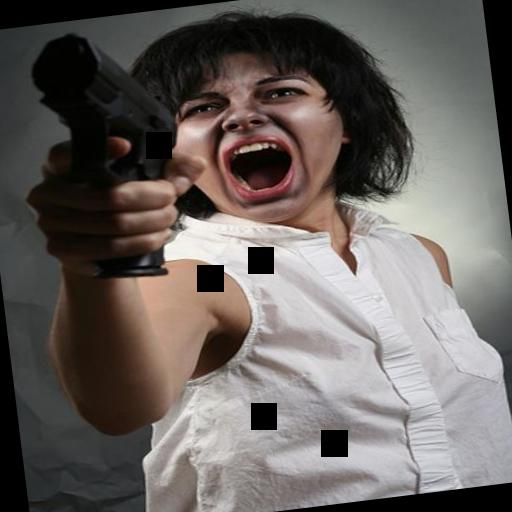Handgun: (21, 22, 195, 288)
